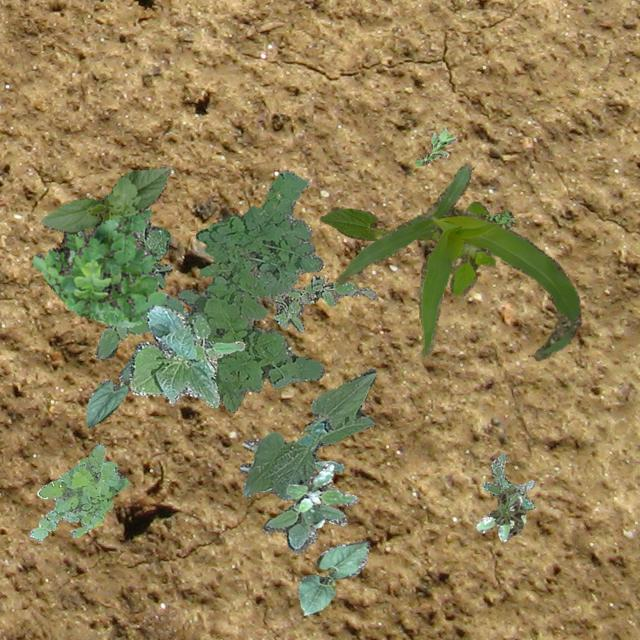crop: (334, 162, 580, 360), (242, 368, 376, 498), (128, 304, 244, 406), (40, 164, 168, 234), (296, 540, 368, 614), (318, 207, 436, 240), (85, 354, 131, 428)
weed: (176, 168, 324, 412), (32, 208, 168, 326), (94, 222, 186, 358), (238, 438, 346, 552), (28, 442, 128, 540), (272, 274, 376, 332), (430, 200, 494, 294), (286, 462, 356, 528), (481, 452, 534, 508), (474, 490, 524, 540), (488, 484, 526, 534), (414, 126, 456, 166), (484, 210, 514, 227)
